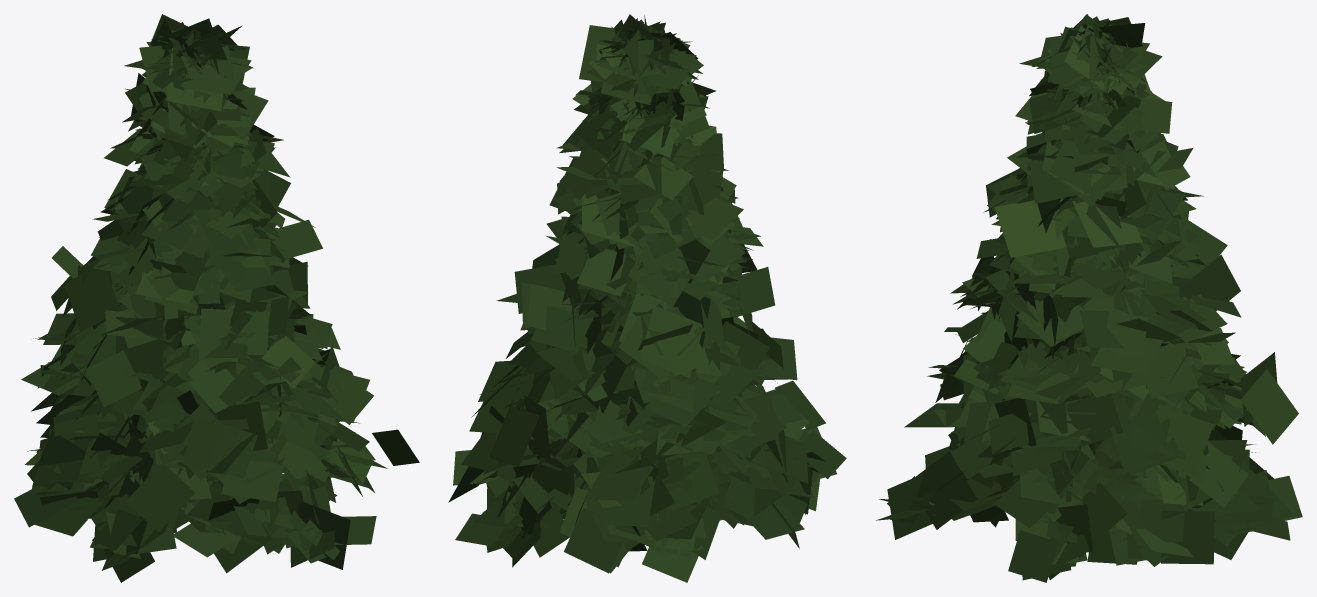
Rendered from PLN_Conifer_Young.fbx.
3 renders of one model, left to right at view 1: azimuth 30°, elevation 25°; view 2: azimuth 150°, elevation 25°; view 3: azimuth 270°, elevation 25°, orthographic.
Parts seen in each view (by area): view 1: PLN_Conifer_Young; view 2: PLN_Conifer_Young; view 3: PLN_Conifer_Young.
Boxes of the visible parts, left/top/right/bottom form: PLN_Conifer_Young: left=14, top=14, right=419, bottom=582; PLN_Conifer_Young: left=448, top=14, right=846, bottom=582; PLN_Conifer_Young: left=876, top=14, right=1302, bottom=582.
Bounding box in the file's own units: 12.25 × 16.17 × 12.31.
